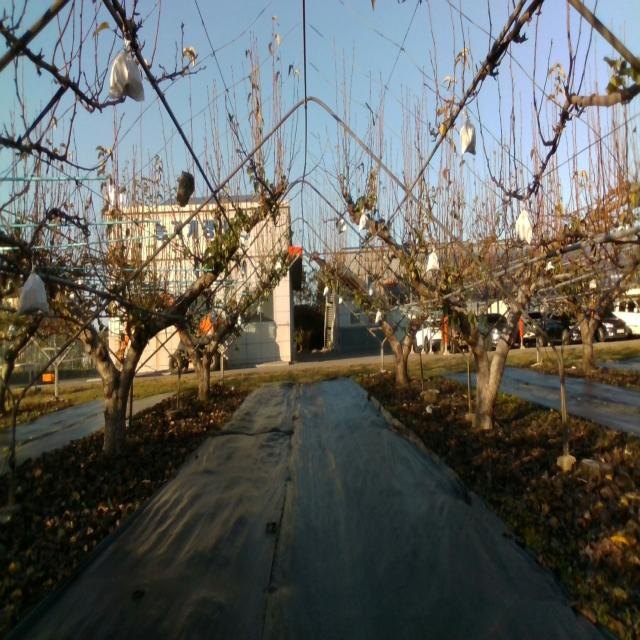pearbags: (107, 39, 145, 104), (17, 266, 48, 316), (458, 107, 476, 156), (516, 210, 532, 247), (426, 246, 440, 272), (239, 226, 250, 249)
